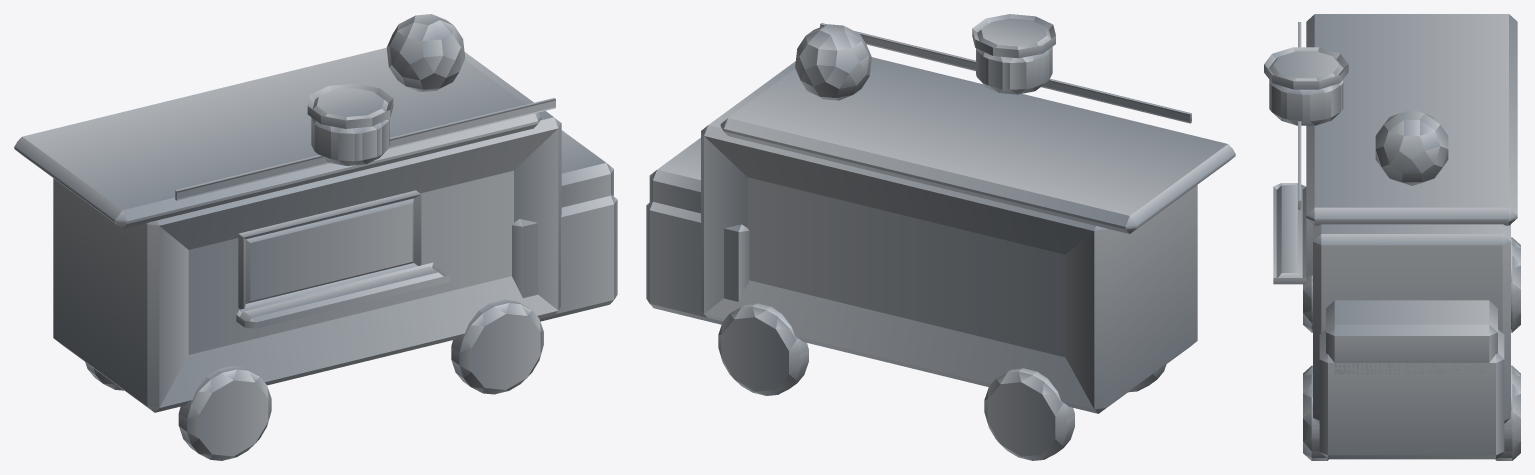
The model's file is dt_cocoa_truck.fbx.
3 views of the same model, side by side, from view 1: azimuth 30°, elevation 25°; view 2: azimuth 150°, elevation 25°; view 3: azimuth 270°, elevation 25° (orthographic). The views are drawn at different scales.
Parts seen in each view (by area): view 1: dt_cocoa_truck; view 2: dt_cocoa_truck; view 3: dt_cocoa_truck.
Part boxes in pixels (left/top/right/bottom): dt_cocoa_truck: left=14, top=14, right=617, bottom=460; dt_cocoa_truck: left=646, top=14, right=1235, bottom=460; dt_cocoa_truck: left=1264, top=14, right=1520, bottom=460.
Size of the model in its own units: 1800 by 1152 by 814.
